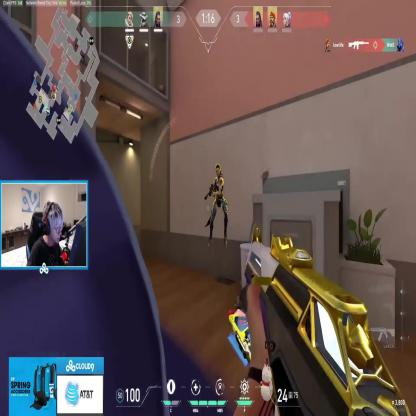enemy: (207, 164, 228, 248)
enemy_head: (215, 164, 221, 178)
